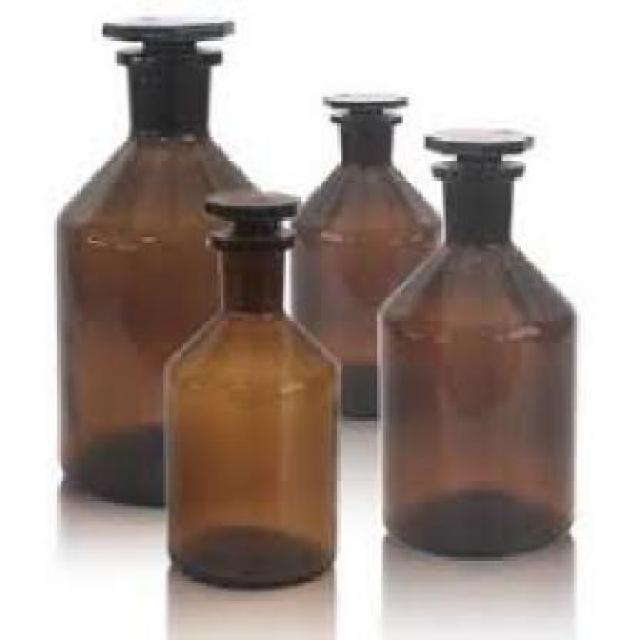kaca: (54, 14, 260, 503), (376, 126, 572, 551), (157, 186, 337, 586), (291, 89, 443, 414)
